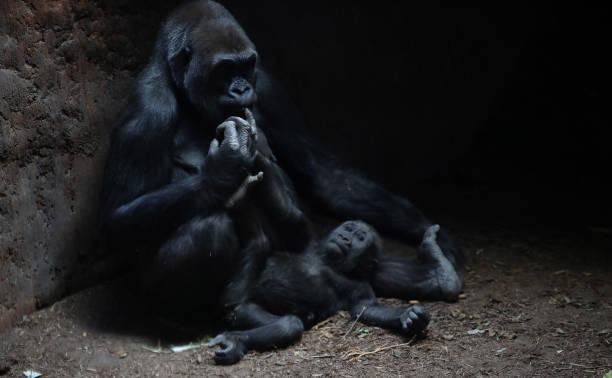gorille_Autres: (112, 3, 315, 330), (251, 201, 433, 366)
